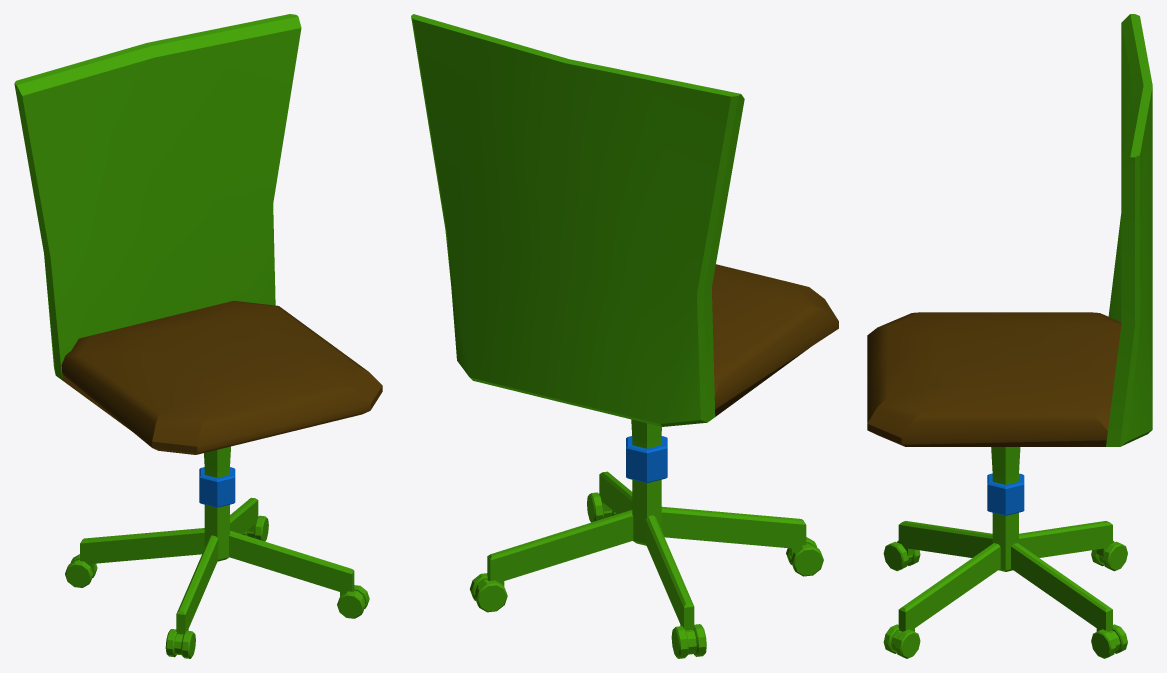
Rendered from Chair.fbx.
The picture shows the model from 3 angles, left to right: view 1: azimuth 30°, elevation 25°; view 2: azimuth 150°, elevation 25°; view 3: azimuth 270°, elevation 25°; orthographic projection. The views are drawn at different scales.
Visible parts, largest first — view 1: Chair; view 2: Chair; view 3: Chair.
Part boxes in pixels (x1,y1,x2,y2): Chair: (14, 14, 382, 658); Chair: (411, 14, 838, 658); Chair: (867, 14, 1152, 658).
Bounding box in the file's own units: 1 × 1.71 × 0.8425.
